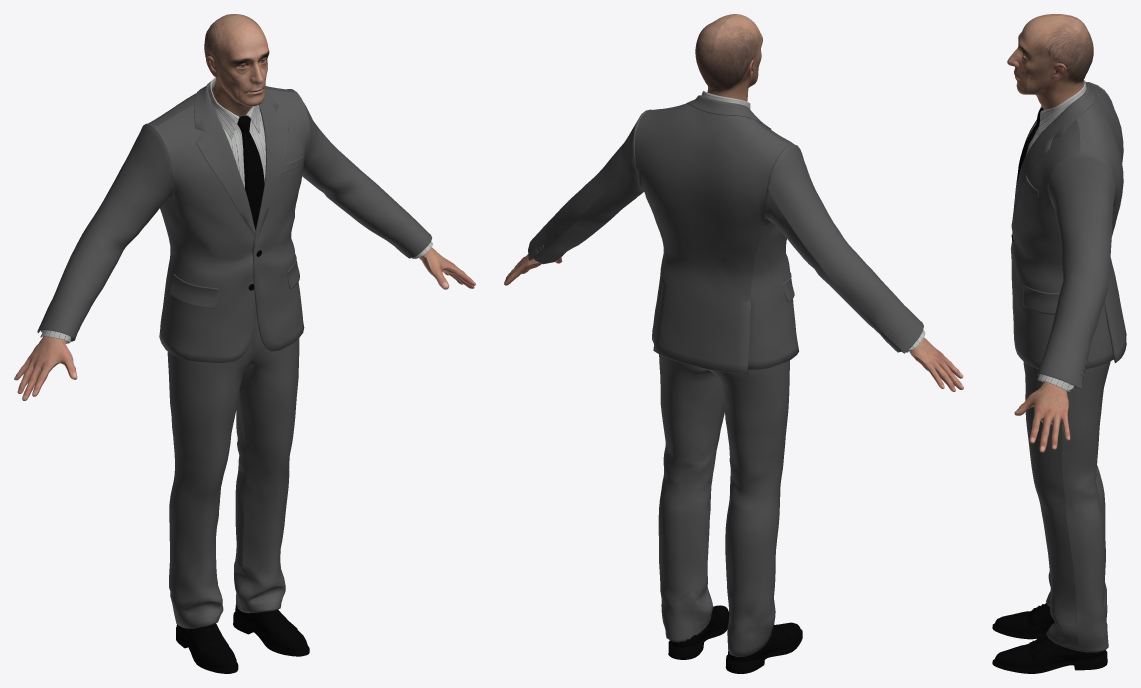
Rendered from the_bad_supervisor.glb.
The picture shows the model from 3 angles, left to right: view 1: azimuth 30°, elevation 25°; view 2: azimuth 150°, elevation 25°; view 3: azimuth 270°, elevation 25°; orthographic projection.
Visible parts, largest first — view 1: Jacket_Grey_D002.smd, Material002.smd, Face.smd, AvatarBody002.smd, Shirt_Stripe_D002.smd; view 2: Jacket_Grey_D002.smd, Face.smd, Material002.smd, AvatarBody002.smd; view 3: Jacket_Grey_D002.smd, Face.smd, Material002.smd, AvatarBody002.smd, Shirt_Stripe_D002.smd.
Boxes of the visible parts, <box> form: Jacket_Grey_D002.smd: <box>37,81,431,628</box>; Material002.smd: <box>176,115,309,673</box>; Face.smd: <box>204,14,269,116</box>; AvatarBody002.smd: <box>14,247,475,400</box>; Shirt_Stripe_D002.smd: <box>40,77,432,343</box>; Jacket_Grey_D002.smd: <box>528,95,923,656</box>; Face.smd: <box>695,14,762,101</box>; Material002.smd: <box>668,605,802,673</box>; AvatarBody002.smd: <box>504,254,963,391</box>; Jacket_Grey_D002.smd: <box>1011,81,1126,652</box>; Face.smd: <box>1007,14,1093,109</box>; Material002.smd: <box>992,107,1107,673</box>; AvatarBody002.smd: <box>1014,381,1070,452</box>; Shirt_Stripe_D002.smd: <box>1026,79,1086,391</box>.
Size of the model in its own units: 2.39 by 3.16 by 0.6072.
Materials: 7 (7 with a texture image).
